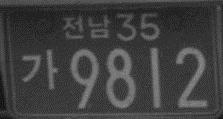1: (147, 46, 162, 110)
2: (174, 45, 209, 109)
3: (115, 12, 136, 42)
5: (139, 12, 160, 42)
8: (105, 48, 137, 109)
9: (70, 48, 100, 109)
가: (22, 49, 58, 91)
전남_O: (62, 12, 111, 41)
